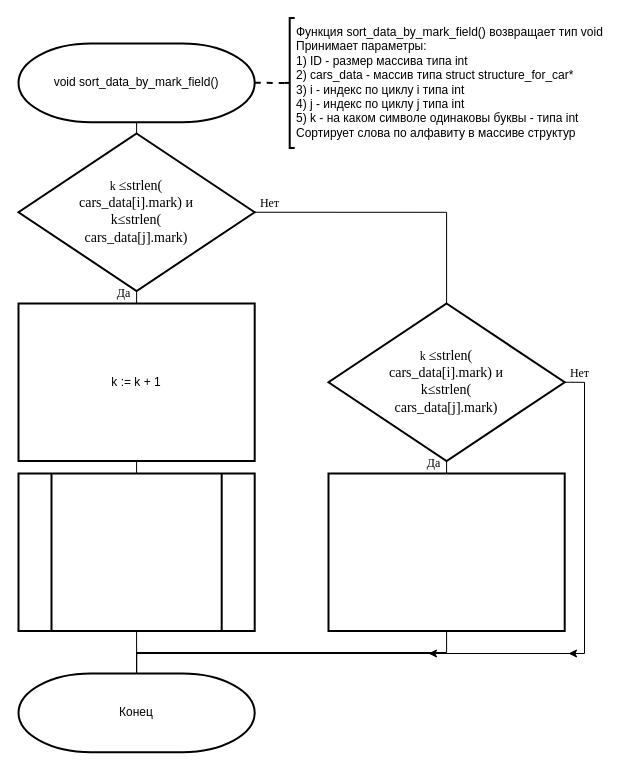
This 621x771 diagram has some shape labels left out. Each missing label, with the centre of its shape:
"sort_data_by_mark_field( ID, cars_data, i, j, k )" goes at (136,552).
"temp := cars_data[i] cars_data[i] := cars_data[j] cars_data[j] := temp" goes at (446,552).
